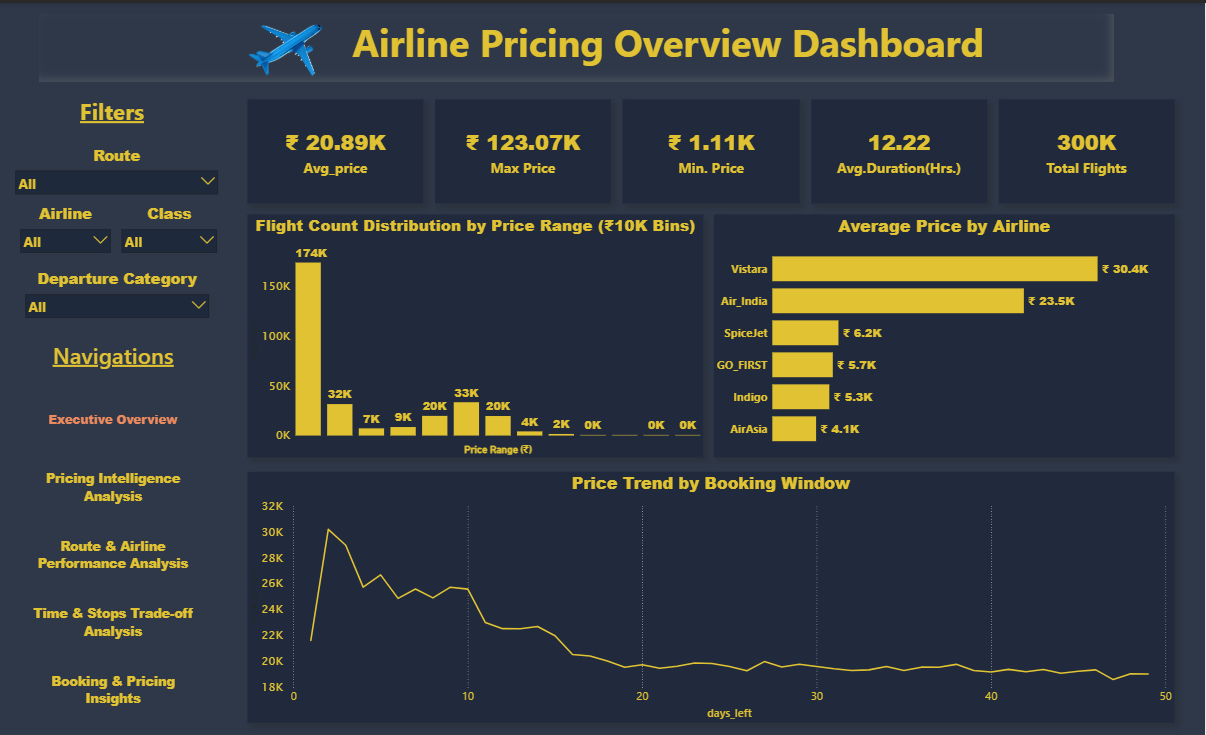

Layout of this report page (visuals, bound fields, positions):
{"tool":"powerbi","page":{"name":"Executive Overview","canvas":[2300,1400],"ordinal":0},"visuals":[{"type":"shape","box":[39.2,21.1,2191.5,129.6],"z":0},{"type":"shape","box":[18.1,171.8,406.9,488.3],"z":1000},{"type":"card","fields":{"Values":["Airline.Min. Price"]},"box":[1188.6,183.9,338.7,199],"z":2000},{"type":"card","fields":{"Values":["Airline.Max Price"]},"box":[831,183.9,335.8,199],"z":3000},{"type":"card","fields":{"Values":["Airline.Avg_price"]},"box":[473.3,183.9,335.8,199],"z":4000},{"type":"card","fields":{"Values":["Airline.Avg.Duration"]},"box":[1549.2,183.9,335.8,199],"z":5000},{"type":"card","fields":{"Values":["Airline.Total Flights"]},"box":[1906.9,183.9,335.8,199],"z":6000},{"type":"lineChart","title":"Price Trend by Booking Window","fields":{"Category":["Airline.days_left"],"Y":["Airline.Avg Price vs. Days Left"]},"box":[473.3,895.3,1769.5,479.3],"z":7000},{"type":"clusteredBarChart","title":"Average Price by Airline","fields":{"Category":["Airline.airline"],"Y":["Airline.Avg_price"]},"box":[1362.5,403.9,880.2,464.2],"z":8000},{"type":"clusteredColumnChart","title":"Flight Count Distribution by Price Range (₹10K Bins)","fields":{"Category":["Airline.price (bins)"],"Y":["Airline.Total Flights"]},"box":[473.3,403.9,870,464.2],"z":9000},{"type":"slicer","title":"Airline","fields":{"Values":["Airline.airline"]},"box":[29.2,382.6,192.5,109.7],"z":10000},{"type":"slicer","title":"Route","fields":{"Values":["Airline.Route"]},"box":[19.5,270.5,407,131.6],"z":11000},{"type":"slicer","title":"Class","fields":{"Values":["Airline.class"]},"box":[221.8,382.6,202.3,109.7],"z":12000},{"type":"slicer","title":"Departure Category","fields":{"Values":["Airline.Departure Category"]},"box":[39,506.9,370.4,129.2],"z":13000},{"type":"textbox","box":[126.6,171.8,174.8,69.3],"z":14000},{"type":"shape","box":[30.1,660.2,406.9,714.4],"z":15000},{"type":"textbox","box":[39.2,636,355.7,99.5],"z":16000},{"type":"pageNavigator","box":[39.2,735.5,355.7,639.1],"z":17000},{"type":"textbox","box":[74,21.5,2051.8,128.8],"z":18000},{"type":"image","box":[424.7,21.5,257.7,128.8],"z":19000}]}

Visuals, with their boxes in screenshot pixels (x1, y1, x2, y2), scaled from the page's 2300x1400 canvas onto the 1206x735 screenshot:
shape: box(21, 11, 1170, 79)
shape: box(9, 90, 223, 347)
card - Airline.Min. Price: box(623, 97, 801, 201)
card - Airline.Max Price: box(436, 97, 612, 201)
card - Airline.Avg_price: box(248, 97, 424, 201)
card - Airline.Avg.Duration: box(812, 97, 988, 201)
card - Airline.Total Flights: box(1000, 97, 1176, 201)
"Price Trend by Booking Window" lineChart: box(248, 470, 1176, 722)
"Average Price by Airline" clusteredBarChart: box(714, 212, 1176, 456)
"Flight Count Distribution by Price Range (₹10K Bins)" clusteredColumnChart: box(248, 212, 704, 456)
"Airline" slicer: box(15, 201, 116, 258)
"Route" slicer: box(10, 142, 224, 211)
"Class" slicer: box(116, 201, 222, 258)
"Departure Category" slicer: box(20, 266, 215, 334)
textbox: box(66, 90, 158, 127)
shape: box(16, 347, 229, 722)
textbox: box(21, 334, 207, 386)
pageNavigator: box(21, 386, 207, 722)
textbox: box(39, 11, 1115, 79)
image: box(223, 11, 358, 79)
